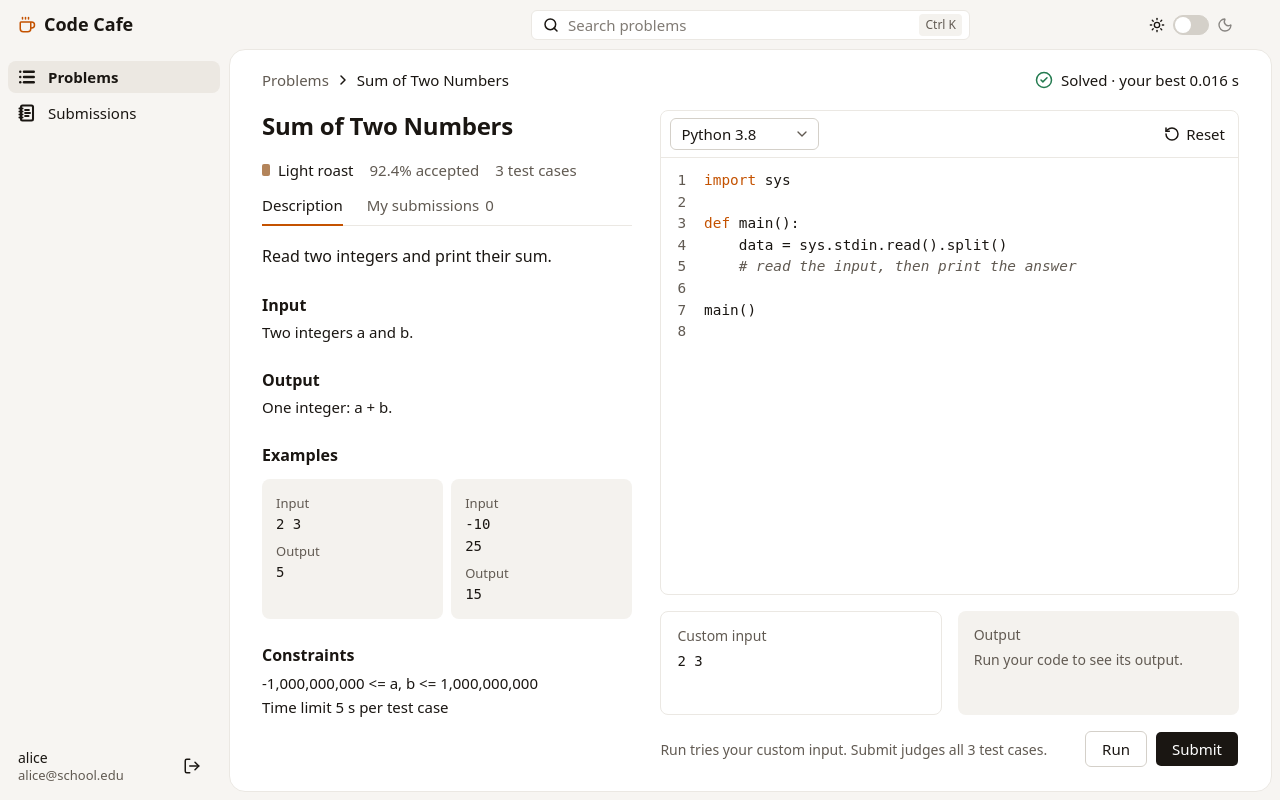
Scenario: workspace › toasts server errors instead of alerting
Step 1. Click the button "Submit" → (1197, 749), box 1155,731 -> 1239,767
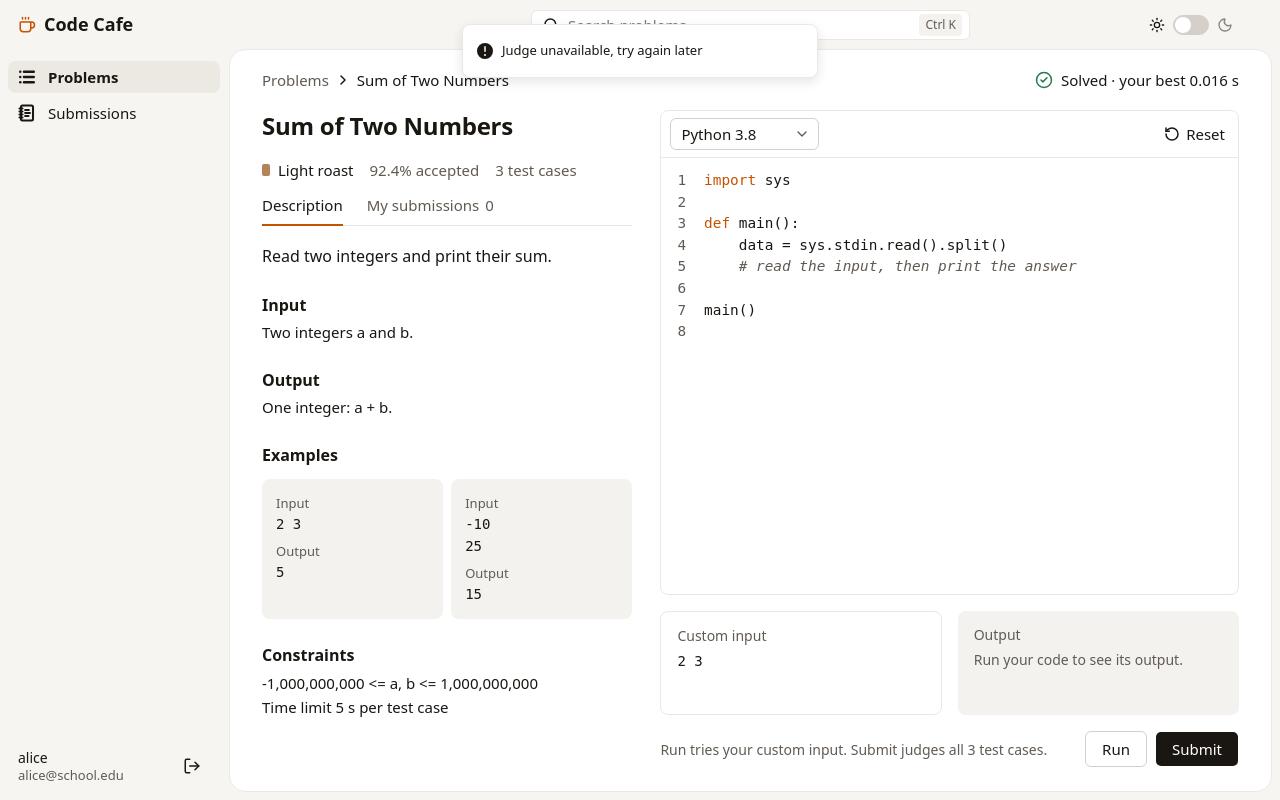
Expected: the text "Judge unavailable, try again later" is shown, 502,41 -> 703,60
